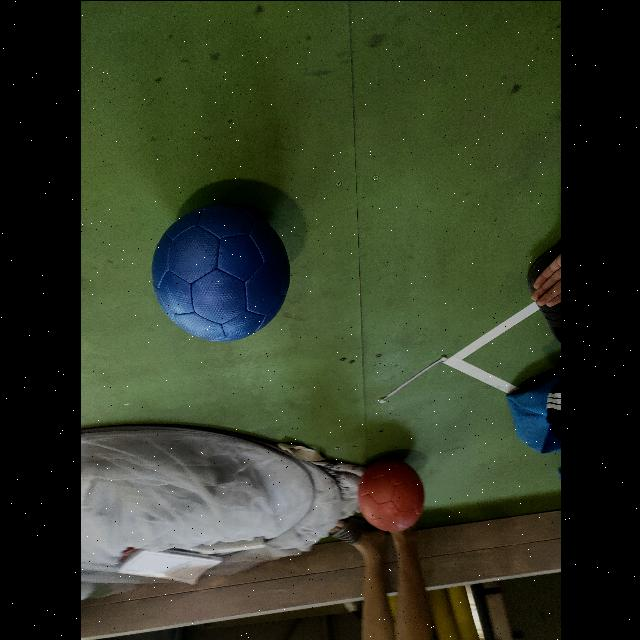R: (356, 459, 423, 532)
